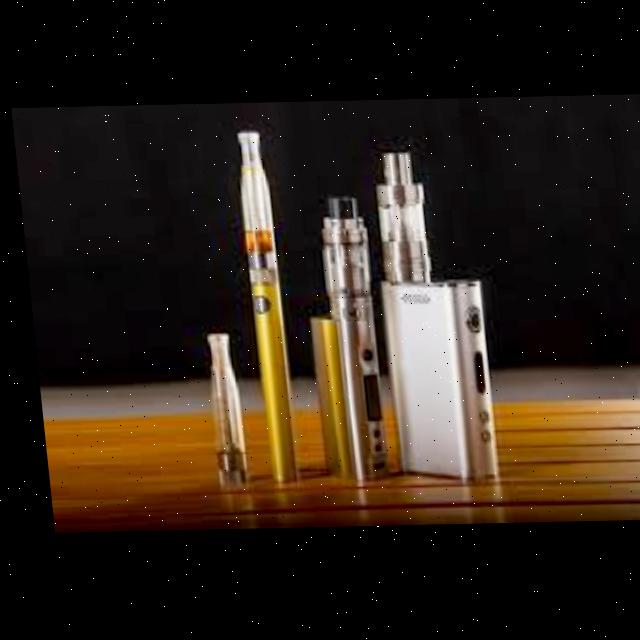vape: (365, 150, 492, 488), (293, 198, 382, 490), (231, 132, 290, 486)
